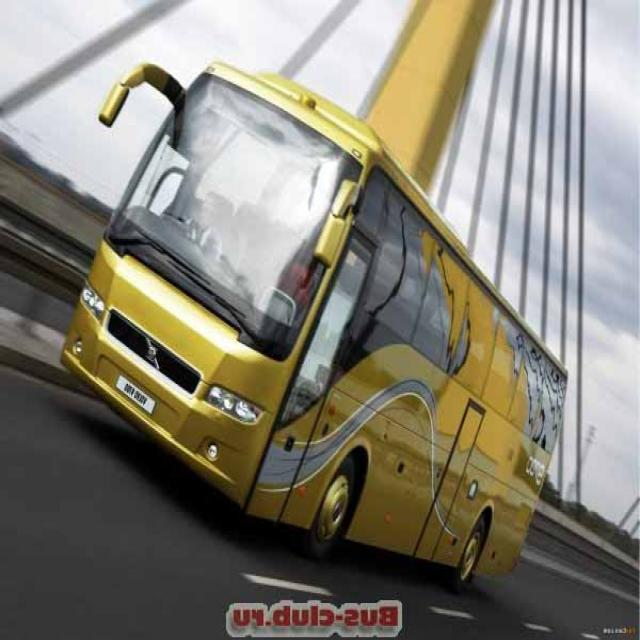bus: (59, 34, 572, 597)
